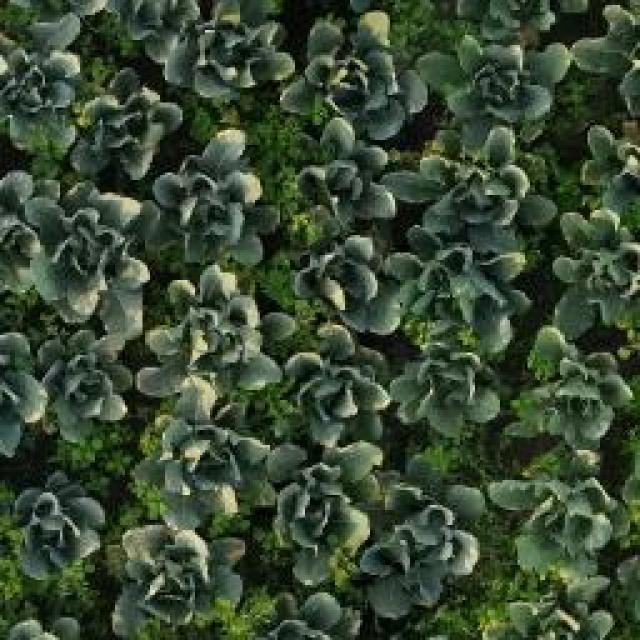cabbage: (38, 190, 150, 323), (166, 144, 281, 269), (160, 278, 274, 401), (275, 327, 387, 445), (151, 414, 266, 528), (435, 20, 545, 138), (114, 532, 234, 638), (266, 452, 375, 567), (427, 140, 543, 242), (286, 234, 405, 332), (514, 463, 616, 577), (306, 22, 412, 125), (29, 332, 135, 434), (172, 5, 290, 95), (299, 131, 414, 220), (412, 251, 518, 346), (72, 80, 178, 175), (10, 480, 110, 579), (375, 494, 471, 594), (533, 342, 628, 440), (0, 20, 82, 130), (399, 356, 497, 434), (558, 216, 640, 299), (265, 577, 360, 640)
